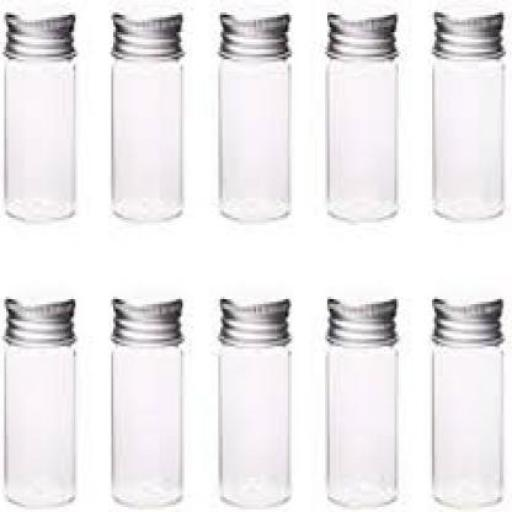glass: (328, 339, 402, 504), (434, 342, 508, 506), (329, 57, 403, 220), (113, 55, 185, 222), (9, 339, 80, 507), (220, 344, 294, 504), (220, 57, 294, 217), (113, 342, 185, 504), (6, 57, 78, 217), (437, 57, 506, 215)
metal: (113, 5, 187, 54), (8, 287, 78, 338), (432, 292, 503, 341), (110, 294, 184, 341), (222, 294, 296, 341), (6, 10, 80, 56), (437, 5, 506, 54), (332, 5, 400, 54), (327, 292, 399, 338), (222, 5, 294, 49)
